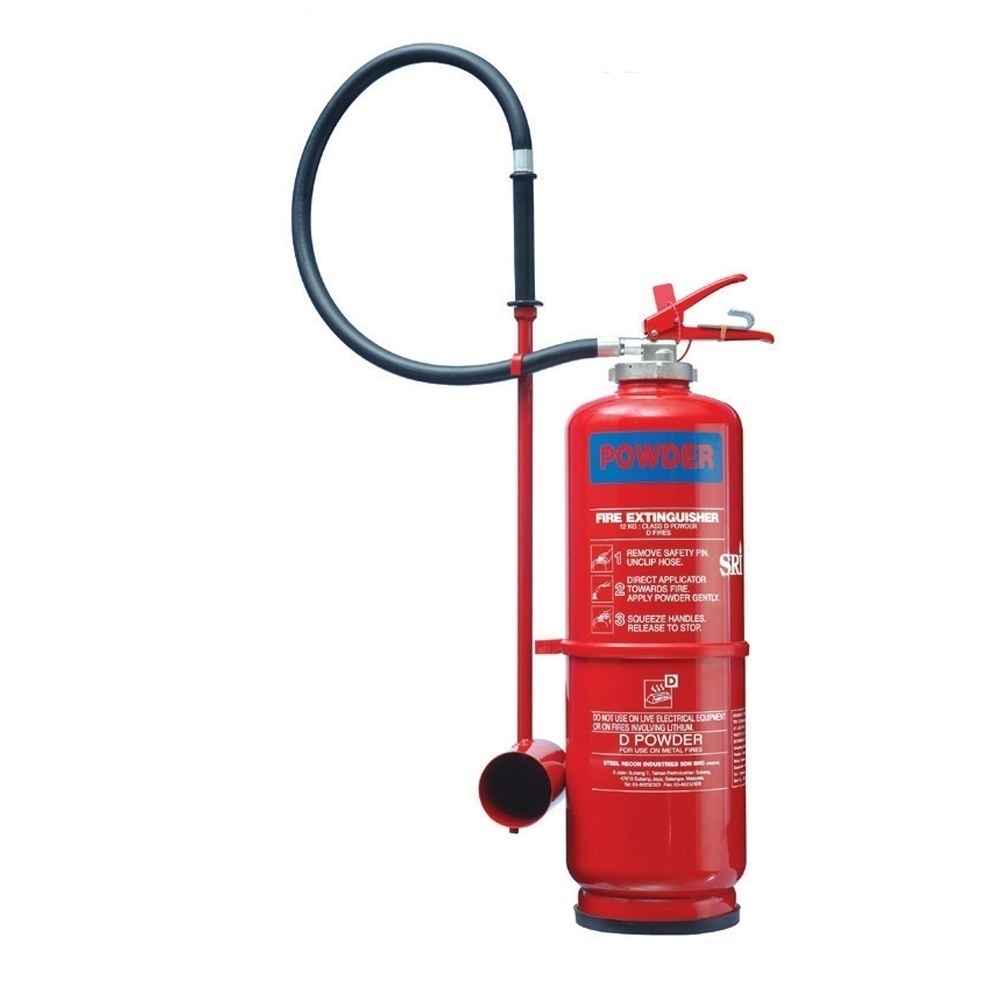fire_extinguisher: (291, 40, 776, 937), (556, 272, 775, 936)
